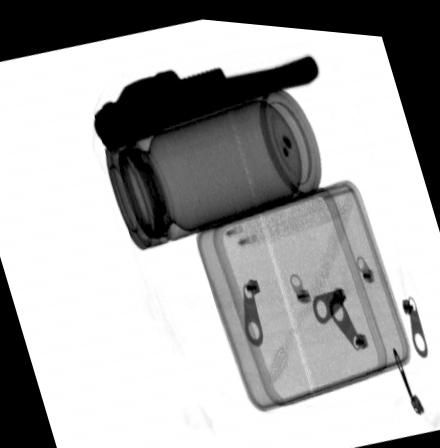Wrench: (89, 47, 320, 152)
